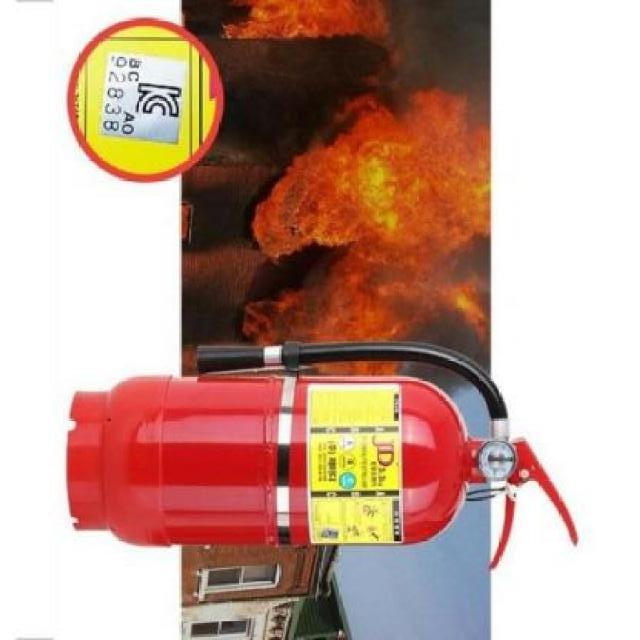fire extinguisher: (66, 341, 579, 570)
